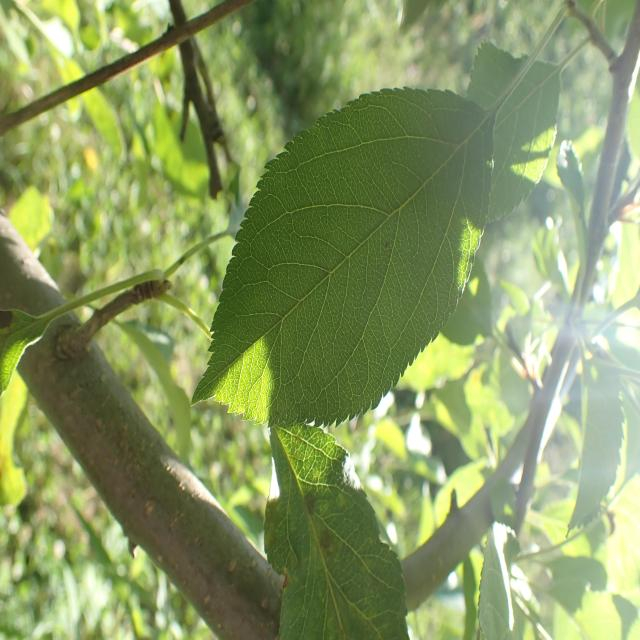healthy: (192, 86, 494, 432), (263, 423, 410, 640), (465, 37, 562, 226), (565, 371, 626, 539)
